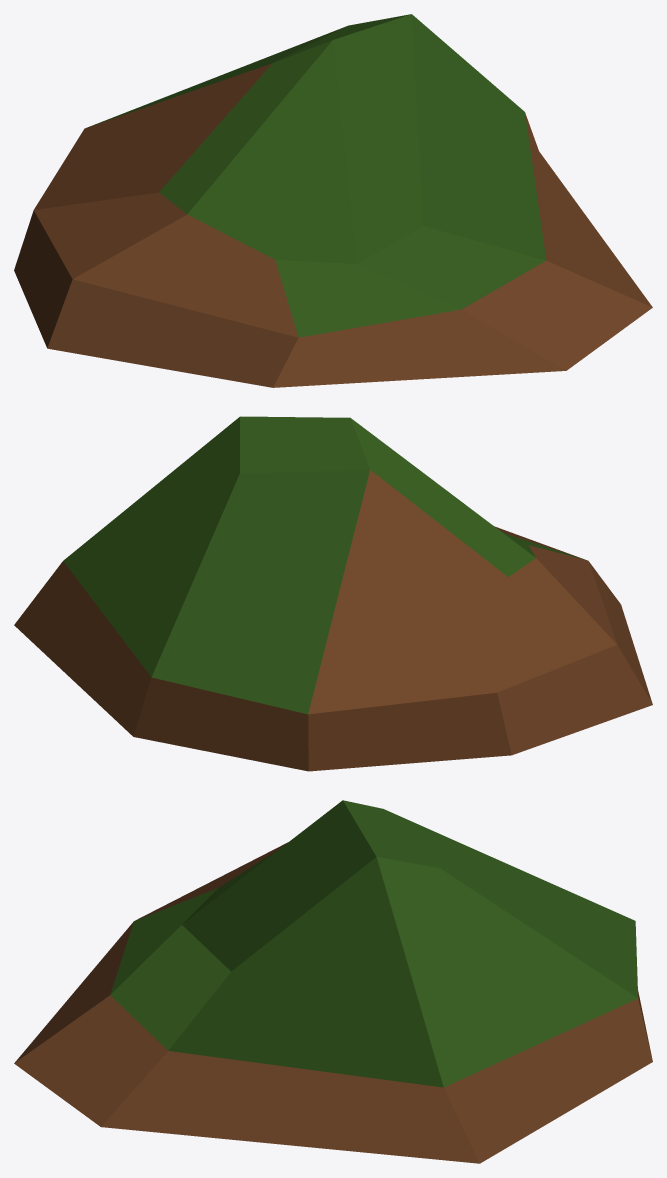
File: MossyRocks003.fbx
3 renders of one model, top to bottom at view 1: azimuth 30°, elevation 25°; view 2: azimuth 150°, elevation 25°; view 3: azimuth 270°, elevation 25°, orthographic. The views are drawn at different scales.
Parts seen in each view (by area): view 1: Cube.013; view 2: Cube.013; view 3: Cube.013.
Part boxes in pixels (x1=…): Cube.013: x1=14, y1=14, x2=652, y2=387; Cube.013: x1=14, y1=416, x2=652, y2=771; Cube.013: x1=14, y1=800, x2=652, y2=1163.
Size of the model in its own units: 450 by 172 by 434.
